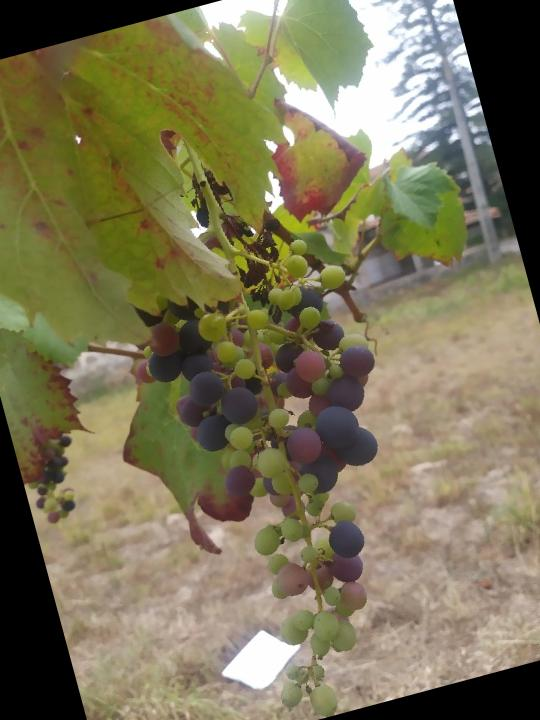grape: (97, 141, 461, 720)
